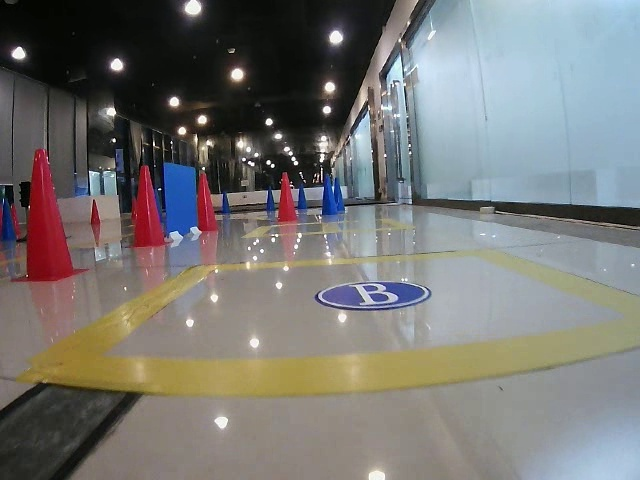B: (315, 280, 426, 306)
